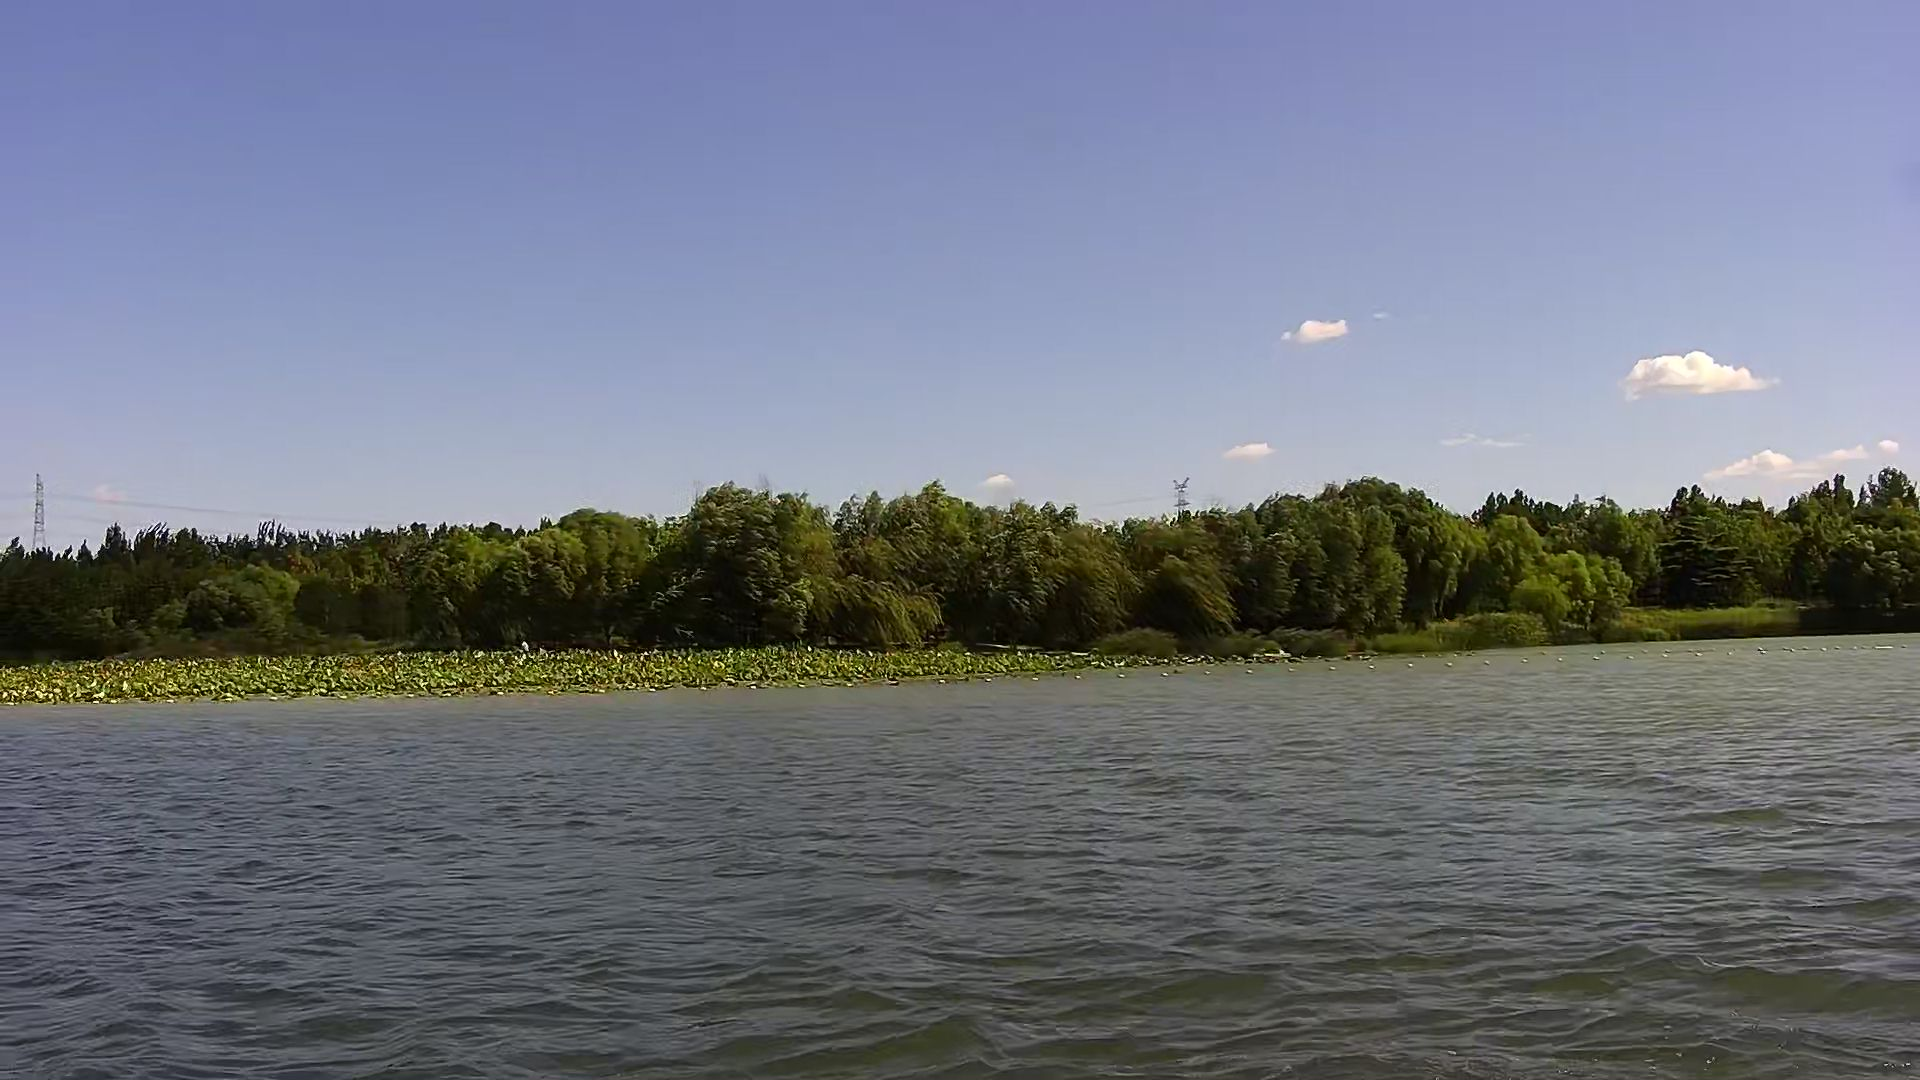grass: (1, 647, 1203, 698)
